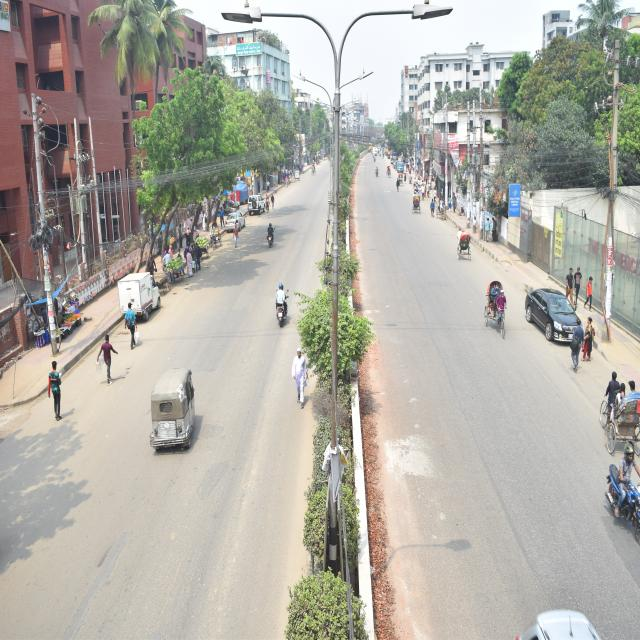car: (511, 266, 635, 376), (504, 585, 609, 640), (224, 197, 252, 252), (248, 188, 272, 223)
motorbike: (593, 423, 640, 562), (268, 266, 304, 348), (261, 209, 280, 252), (374, 161, 383, 192)
pickup-van: (108, 238, 164, 334)
